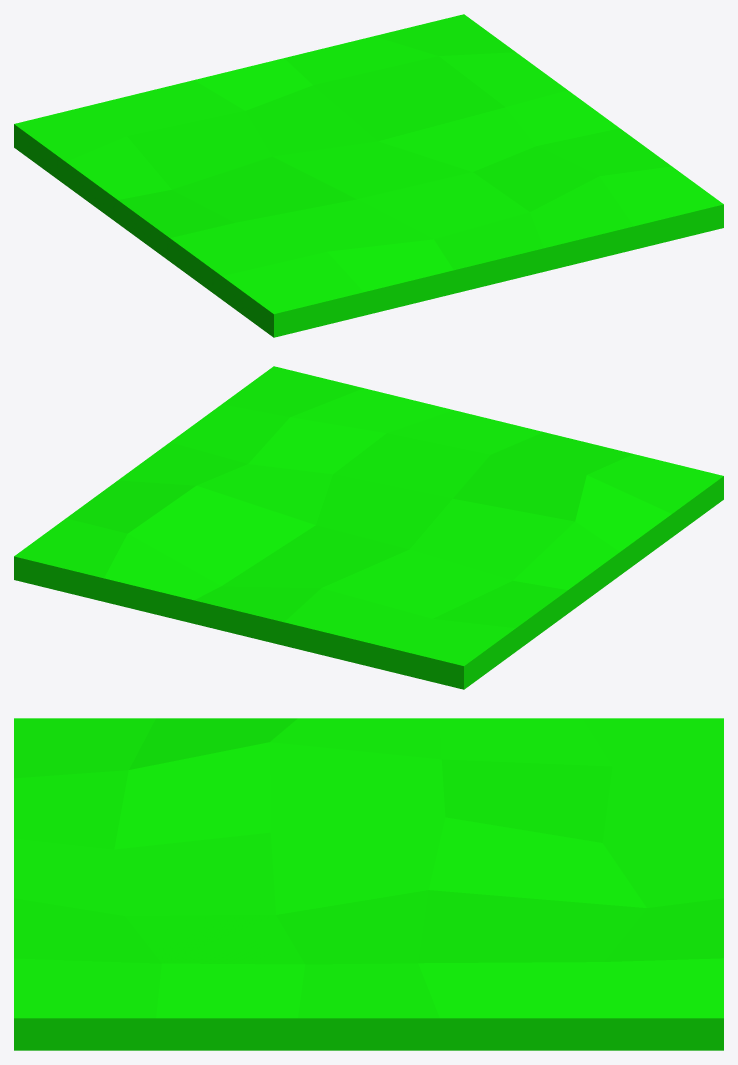
The model's file is plaint_export.fbx.
3 renders of one model, top to bottom at view 1: azimuth 30°, elevation 25°; view 2: azimuth 150°, elevation 25°; view 3: azimuth 270°, elevation 25°, orthographic. The views are drawn at different scales.
Visible parts, largest first — view 1: Cube; view 2: Cube; view 3: Cube.
Boxes of the visible parts, x1,y1,x2,y2 form: Cube: (14, 14, 723, 337); Cube: (14, 366, 723, 689); Cube: (14, 718, 723, 1050).
Size of the model in its own units: 2000 by 140 by 2000.
